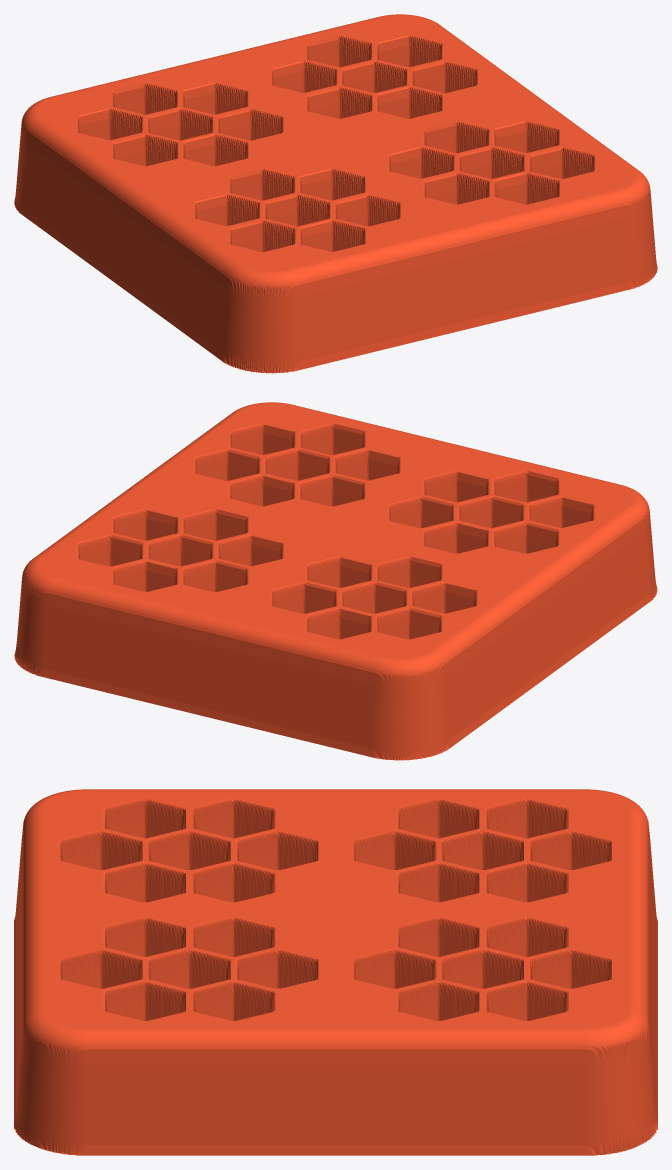
File: mold.glb
3 views of the same model, one above another, from view 1: azimuth 30°, elevation 25°; view 2: azimuth 150°, elevation 25°; view 3: azimuth 270°, elevation 25° (orthographic). The views are drawn at different scales.
Parts seen in each view (by area): view 1: geometry_0; view 2: geometry_0; view 3: geometry_0.
Part boxes in pixels (box(x1,y1,x2,y2)): geometry_0: box(14, 14, 657, 373); geometry_0: box(14, 402, 657, 760); geometry_0: box(14, 789, 657, 1155).
Size of the model in its own units: 0.0776 by 0.0159 by 0.0808.
